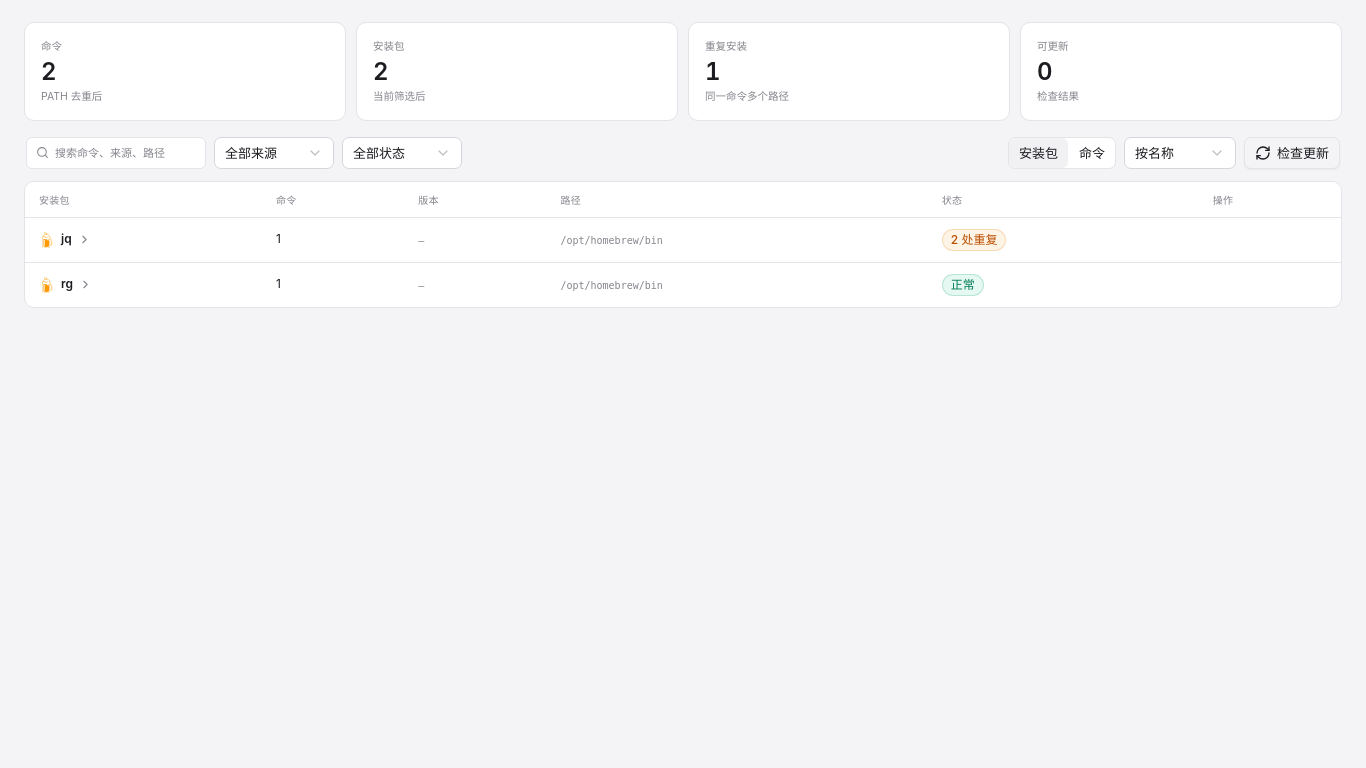
it: CLIView › shows commands and duplicate state
Expected: the text "rg" is shown, left=61, top=276, right=73, bottom=293
Click the text "jq" at x=66, y=240, box left=61, top=231, right=72, bottom=248
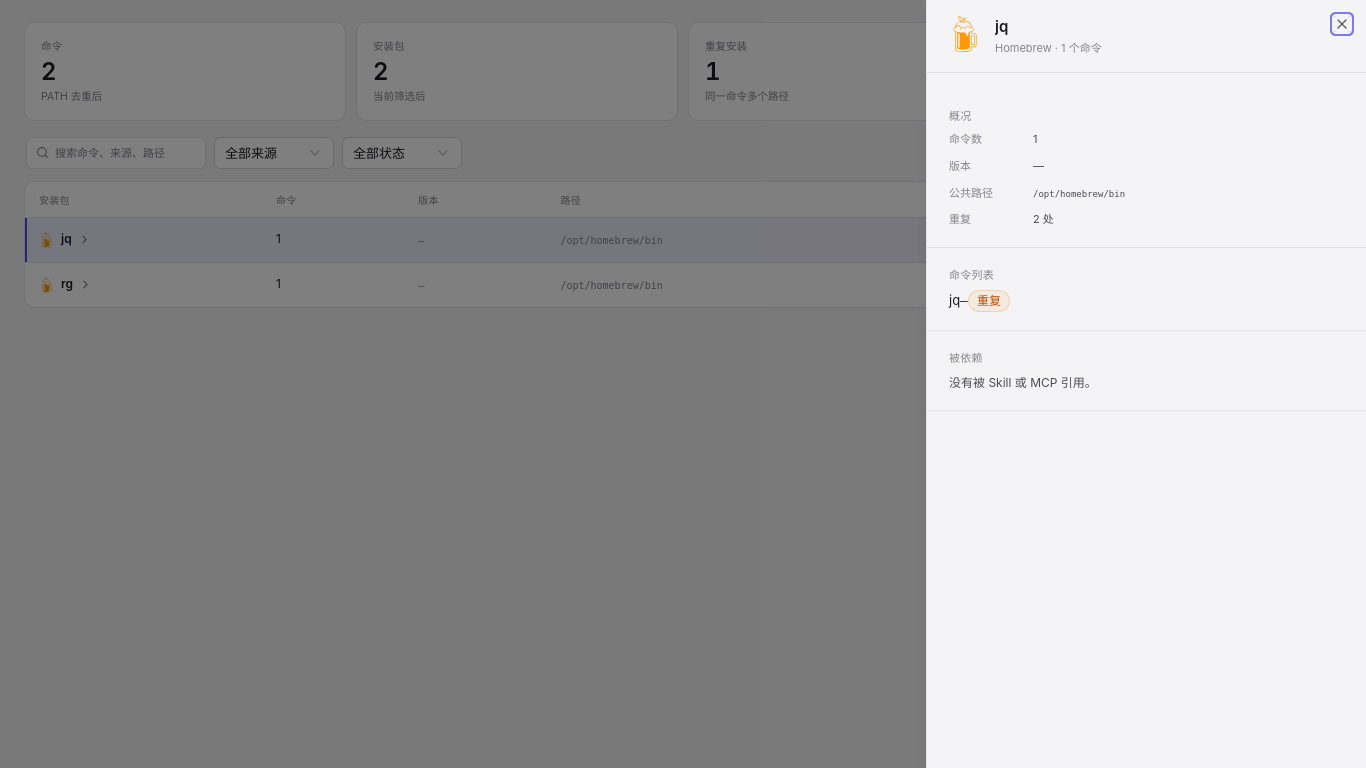
Expected: the text "重复" below "公共路径" is shown, left=949, top=212, right=971, bottom=226
Expected: the text "2 处" is shown, left=1033, top=212, right=1054, bottom=226
